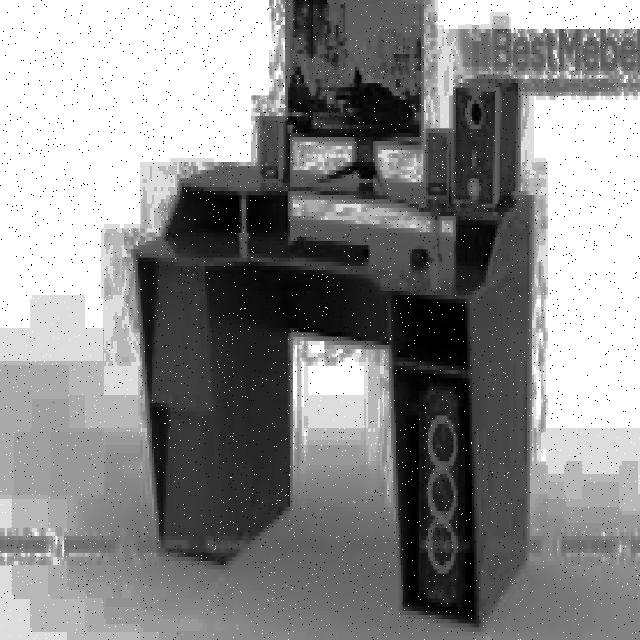table: (131, 158, 532, 627)
